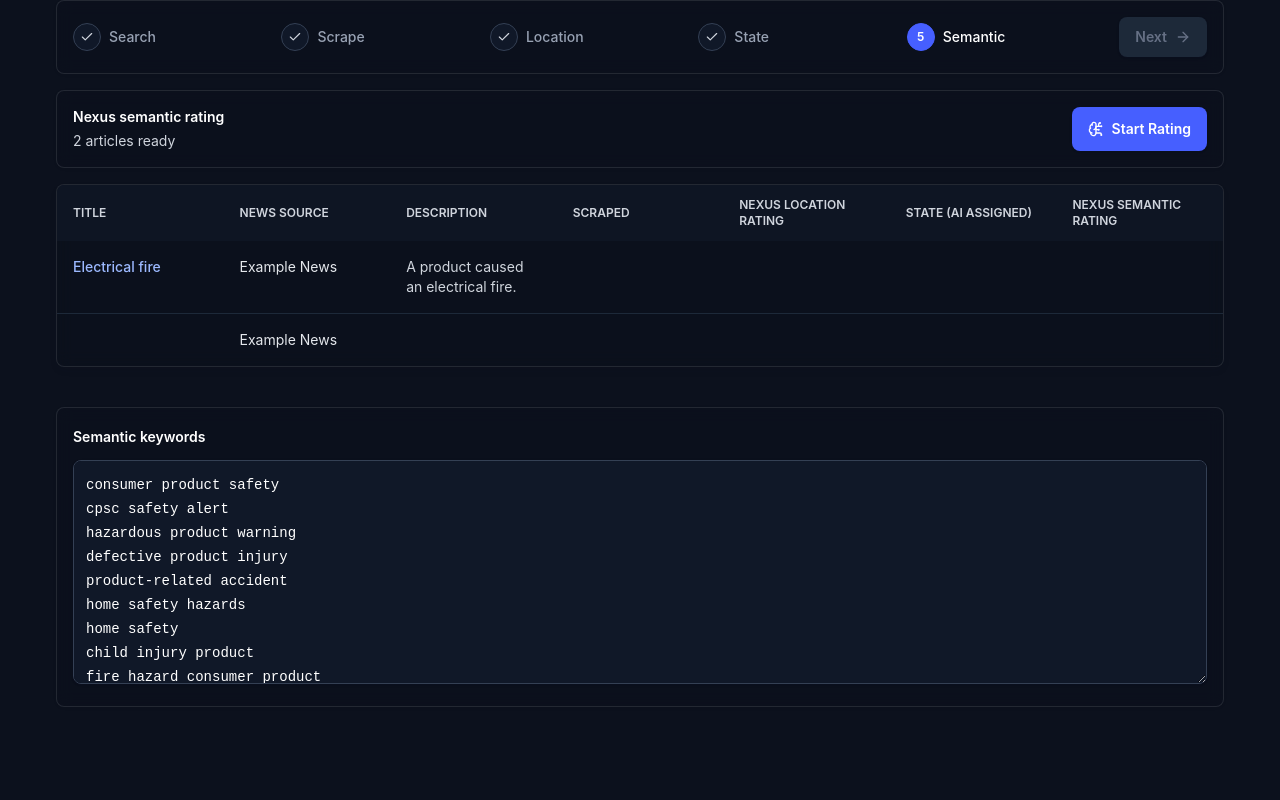
Test: SemanticBar › shows a progress dialog while semantic rating is running
Click the button "Start Rating": (1139, 129) [1072,107,1207,151]
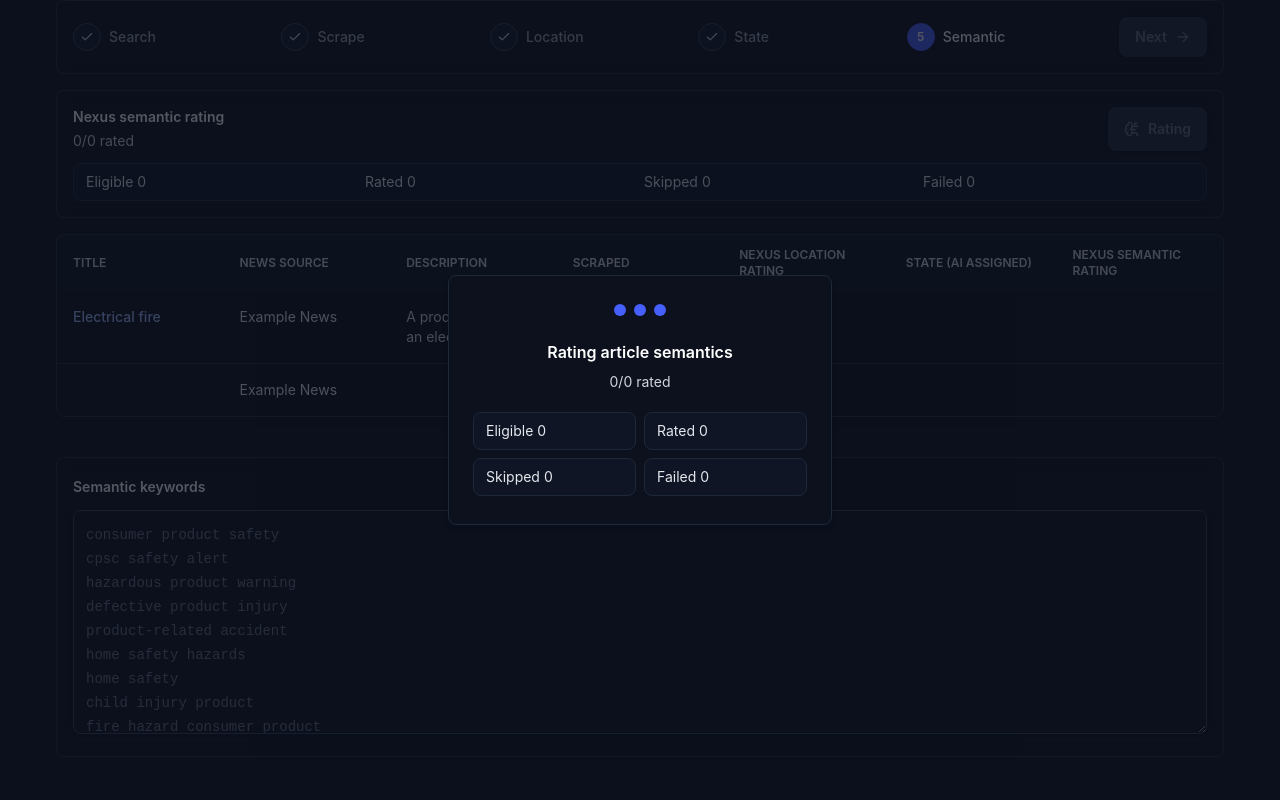
Expected: the dialog "Rating article semantics" is shown, [547,342,733,362]
Expected: the dialog "Rating article semantics" shows "0/0 rated", [610,373,670,390]
